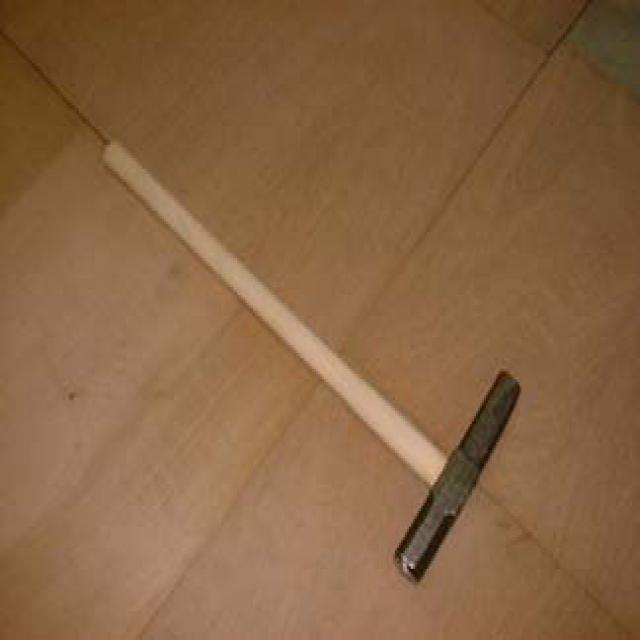hammer: (92, 133, 522, 591)
